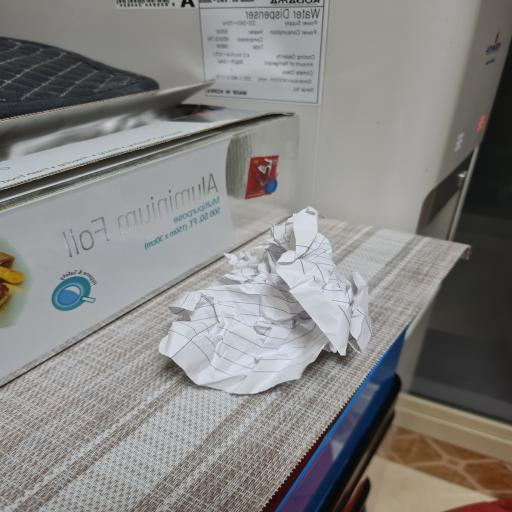Kertas: (166, 209, 353, 393)
